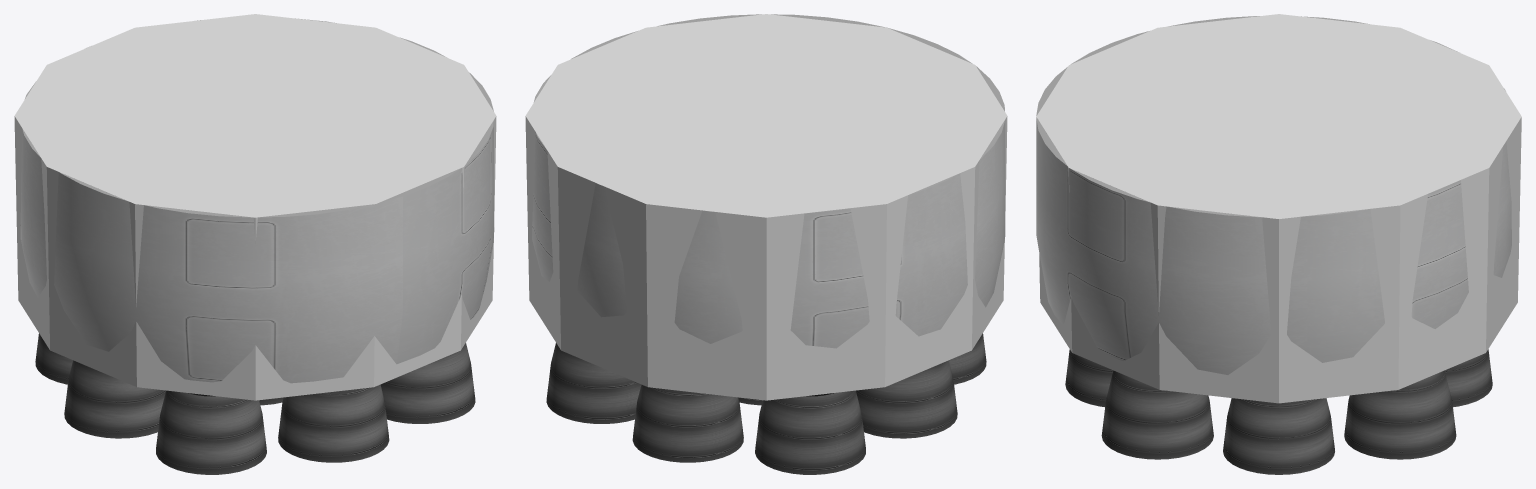
3 views of the same model, side by side, from view 1: azimuth 30°, elevation 25°; view 2: azimuth 150°, elevation 25°; view 3: azimuth 270°, elevation 25° (orthographic).
Visible parts, largest first — view 1: Cylinder, fuelTank.001, Cone.006; view 2: Cylinder, fuelTank.001, Cone.006; view 3: Cylinder, fuelTank.001, Cone.006.
Boxes of the visible parts, x1=… form: Cylinder: x1=14, y1=14, x2=496, y2=400; fuelTank.001: x1=20, y1=18, x2=494, y2=383; Cone.006: x1=35, y1=333, x2=475, y2=474; Cylinder: x1=525, y1=14, x2=1007, y2=400; fuelTank.001: x1=532, y1=14, x2=1005, y2=348; Cone.006: x1=546, y1=333, x2=986, y2=474; Cylinder: x1=1036, y1=14, x2=1521, y2=403; fuelTank.001: x1=1036, y1=16, x2=1511, y2=374; Cone.006: x1=1065, y1=349, x2=1492, y2=474.
Size of what is drawn, in the model's own units: 400 by 244 by 401.
